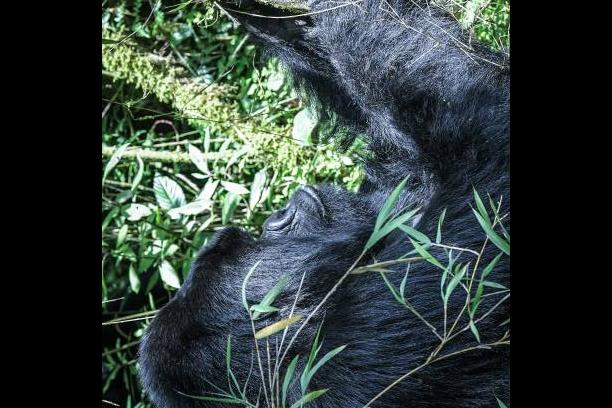goriile_montagne: (131, 64, 506, 408)
